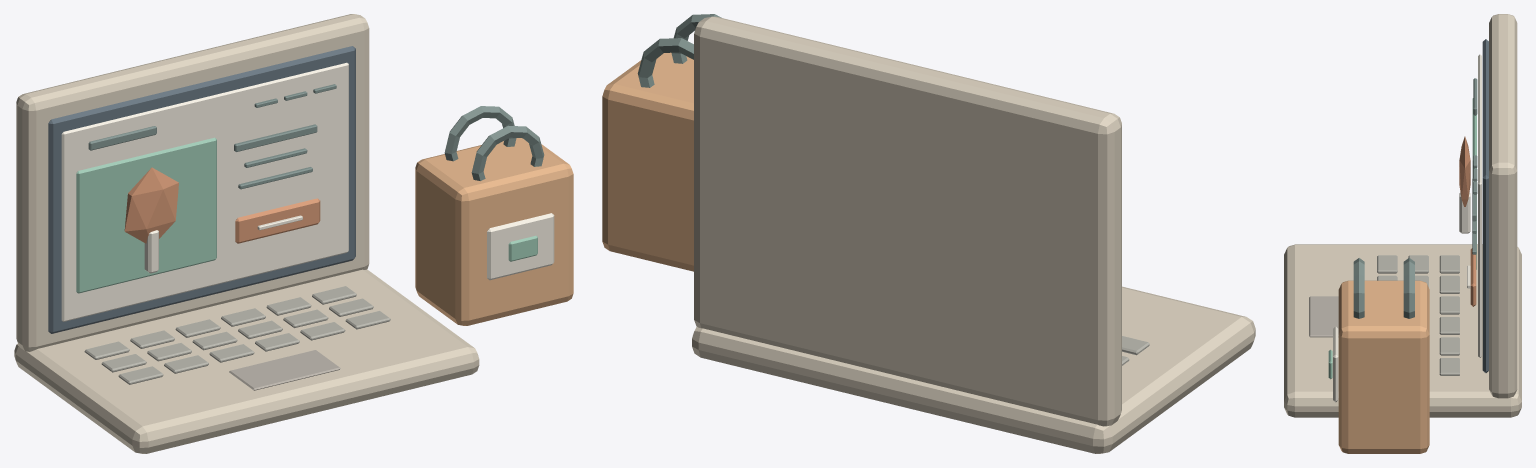
File: storefront.glb
The picture shows the model from 3 angles, left to right: view 1: azimuth 30°, elevation 25°; view 2: azimuth 150°, elevation 25°; view 3: azimuth 270°, elevation 25°; orthographic projection. The views are drawn at different scales.
Visible parts, largest first — view 1: LaptopBase, BrowserPage, LaptopLid, Bag_Body, ProductTile, DisplayInset, Bag_FrontLabel, ProductPaddle, Trackpad, AddToCart, Bag_HandleFront, Bag_HandleBack (+4 smaller); view 2: LaptopLid, LaptopBase, Bag_Body, Bag_HandleBack; view 3: LaptopBase, Bag_Body, LaptopLid, DisplayInset, BrowserPage, Trackpad, Bag_HandleBack, Bag_HandleFront, ProductPaddle, Bag_FrontLabel, ProductGrip, Key2_0 (+9 smaller).
Part boxes in pixels (<box>): LaptopBase: <box>14,269,479,453</box>; BrowserPage: <box>61,62,348,321</box>; LaptopLid: <box>16,14,369,351</box>; Bag_Body: <box>415,138,573,325</box>; ProductTile: <box>76,137,216,293</box>; DisplayInset: <box>48,46,355,333</box>; Bag_FrontLabel: <box>487,213,554,280</box>; ProductPaddle: <box>124,167,178,243</box>; Trackpad: <box>229,350,340,390</box>; AddToCart: <box>235,198,320,243</box>; Bag_HandleFront: <box>471,125,544,180</box>; Bag_HandleBack: <box>444,106,516,161</box>; LaptopLid: <box>694,16,1121,426</box>; LaptopBase: <box>692,286,1255,453</box>; Bag_Body: <box>602,52,693,271</box>; Bag_HandleBack: <box>637,38,693,87</box>; LaptopBase: <box>1284,244,1521,417</box>; Bag_Body: <box>1338,280,1429,453</box>; LaptopLid: <box>1489,14,1517,398</box>; DisplayInset: <box>1482,39,1488,372</box>; BrowserPage: <box>1478,54,1481,357</box>; Trackpad: <box>1309,296,1338,337</box>; Bag_HandleBack: <box>1403,258,1414,318</box>; Bag_HandleFront: <box>1353,258,1364,318</box>; ProductPaddle: <box>1459,136,1470,206</box>; Bag_FrontLabel: <box>1333,326,1338,402</box>; ProductGrip: <box>1459,192,1470,233</box>; Key2_0: <box>1377,255,1397,273</box>.
Bounding box in the file's own units: 1.6 × 0.9 × 0.76.
